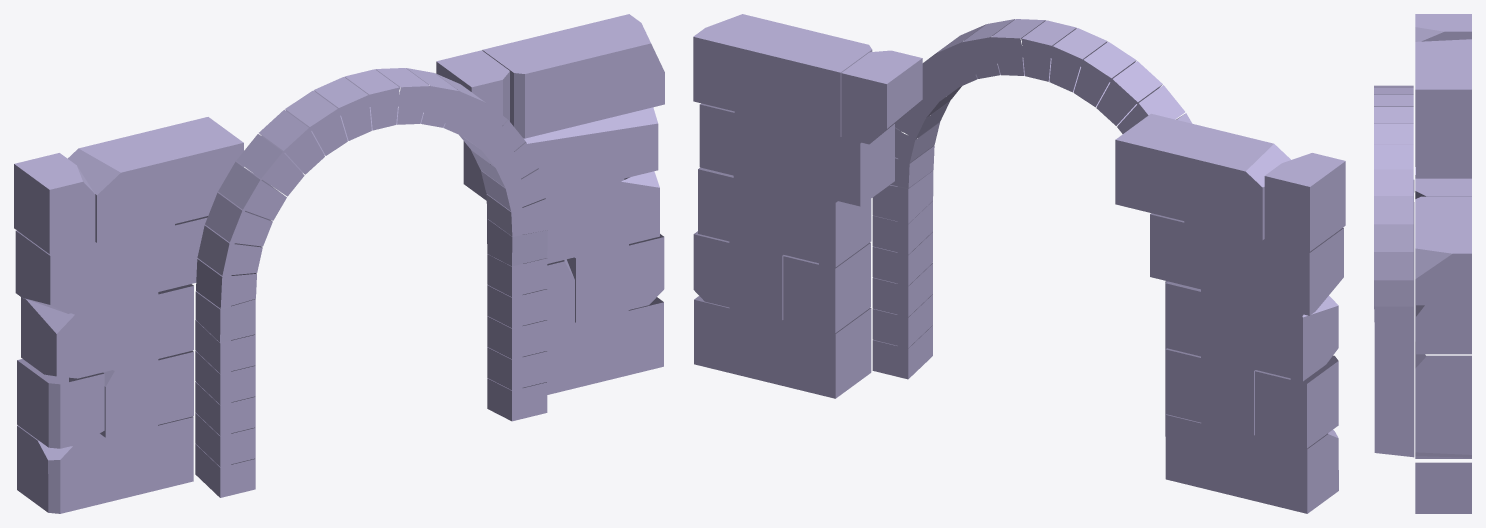
File: bridge-bake-compressed.glb
3 views of the same model, side by side, from view 1: azimuth 30°, elevation 25°; view 2: azimuth 150°, elevation 25°; view 3: azimuth 270°, elevation 25° (orthographic). The views are drawn at different scales.
Parts seen in each view (by area): view 1: Cube.072, Cube.065, Cube.064, Cube.060, Cube.063, Cube.071, Cube.067, Cube.070, Cube.066, Cube.062, Cube.061, Cube.068 (+31 smaller); view 2: Cube.065, Cube.072, Cube.071, Cube.064, Cube.067, Cube.063, Cube.060, Cube.070, Cube.066, Cube.068, Cube.061, Cube.073 (+20 smaller); view 3: Cube.072, Cube.065, Cube.067, Cube.070, Cube.068, Cube.071, Cube.064, Cube.066, Cube.027, Cube.029, Cube.028, Cube.073 (+13 smaller).
Part boxes in pixels (x1=…): Cube.072: x1=482, y1=14, x2=664, y2=138; Cube.065: x1=68, y1=117, x2=243, y2=242; Cube.064: x1=15, y1=216, x2=207, y2=313; Cube.060: x1=17, y1=416, x2=193, y2=513; Cube.063: x1=21, y1=284, x2=193, y2=378; Cube.071: x1=463, y1=107, x2=658, y2=200; Cube.067: x1=547, y1=297, x2=663, y2=394; Cube.070: x1=487, y1=171, x2=659, y2=263; Cube.066: x1=14, y1=153, x2=95, y2=254; Cube.062: x1=17, y1=359, x2=104, y2=448; Cube.061: x1=100, y1=350, x2=193, y2=437; Cube.068: x1=567, y1=234, x2=664, y2=322; Cube.065: x1=1115, y1=113, x2=1290, y2=240; Cube.072: x1=693, y1=14, x2=872, y2=137; Cube.071: x1=699, y1=103, x2=894, y2=206; Cube.064: x1=1150, y1=213, x2=1343, y2=315; Cube.067: x1=694, y1=296, x2=871, y2=398; Cube.063: x1=1165, y1=281, x2=1338, y2=381; Cube.060: x1=1165, y1=414, x2=1338, y2=513; Cube.070: x1=698, y1=167, x2=871, y2=267; Cube.066: x1=1264, y1=153, x2=1345, y2=251; Cube.068: x1=693, y1=231, x2=784, y2=320; Cube.061: x1=1165, y1=348, x2=1256, y2=435; Cube.073: x1=841, y1=50, x2=922, y2=144; Cube.072: x1=1415, y1=196, x2=1471, y2=305; Cube.065: x1=1415, y1=39, x2=1471, y2=141; Cube.067: x1=1415, y1=456, x2=1471, y2=513; Cube.070: x1=1415, y1=305, x2=1471, y2=407; Cube.068: x1=1415, y1=407, x2=1471, y2=457; Cube.071: x1=1416, y1=305, x2=1471, y2=354; Cube.064: x1=1416, y1=141, x2=1470, y2=178; Cube.066: x1=1415, y1=14, x2=1471, y2=41; Cube.027: x1=1374, y1=196, x2=1413, y2=224; Cube.029: x1=1374, y1=252, x2=1413, y2=280; Cube.028: x1=1374, y1=224, x2=1413, y2=251; Cube.073: x1=1415, y1=178, x2=1471, y2=198.
Size of the model in its own units: 0.8516 by 0.4882 by 0.1471.
